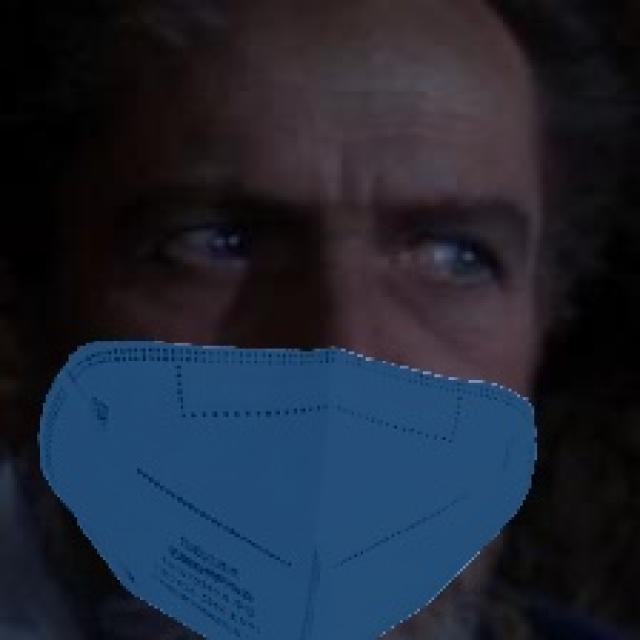mask: (67, 309, 570, 639)
